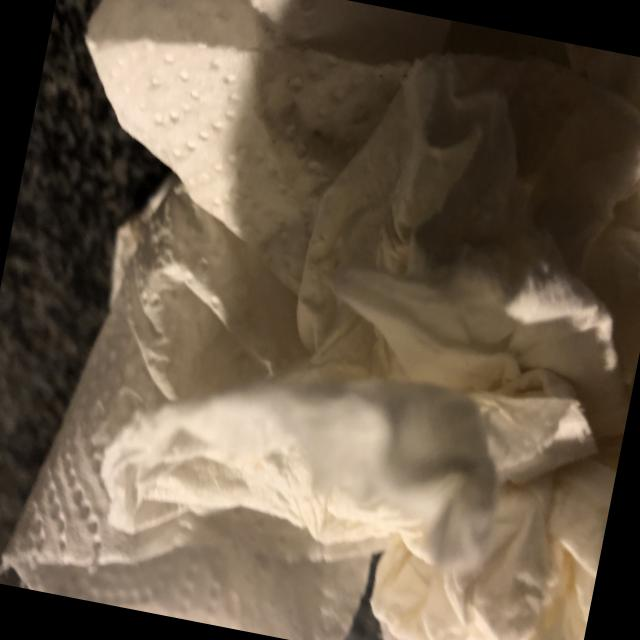organic waste: (73, 26, 640, 640), (20, 0, 640, 432), (0, 157, 446, 640)
